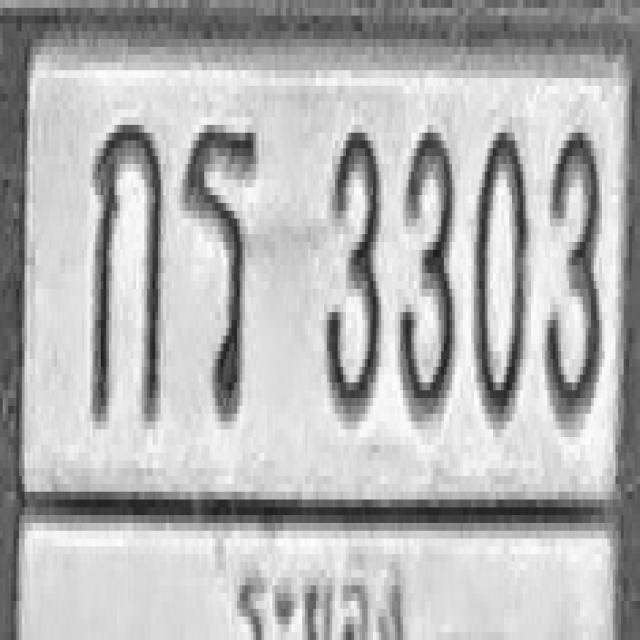0: (472, 125, 527, 421)
10GorGai: (91, 117, 162, 422)
3: (544, 125, 600, 421), (398, 125, 454, 414), (325, 125, 380, 414)
44RorRuea: (181, 117, 257, 414)
Rayong: (205, 484, 445, 640)
